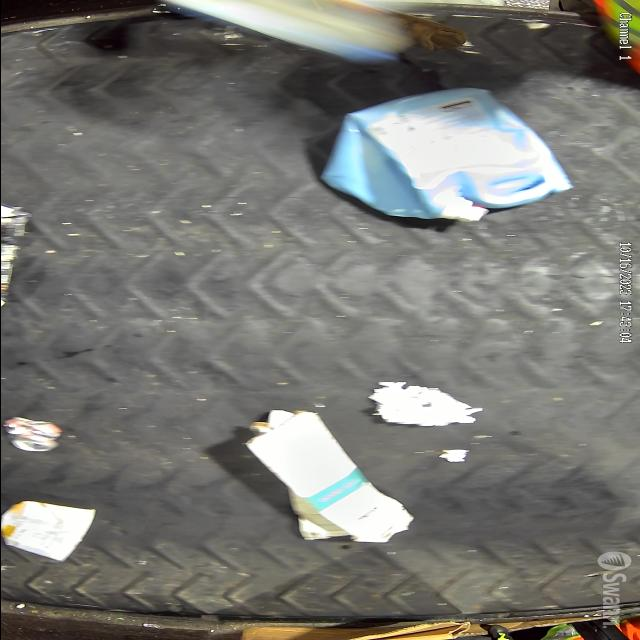can: (0, 412, 73, 456)
non_white_jug: (312, 88, 567, 226)
